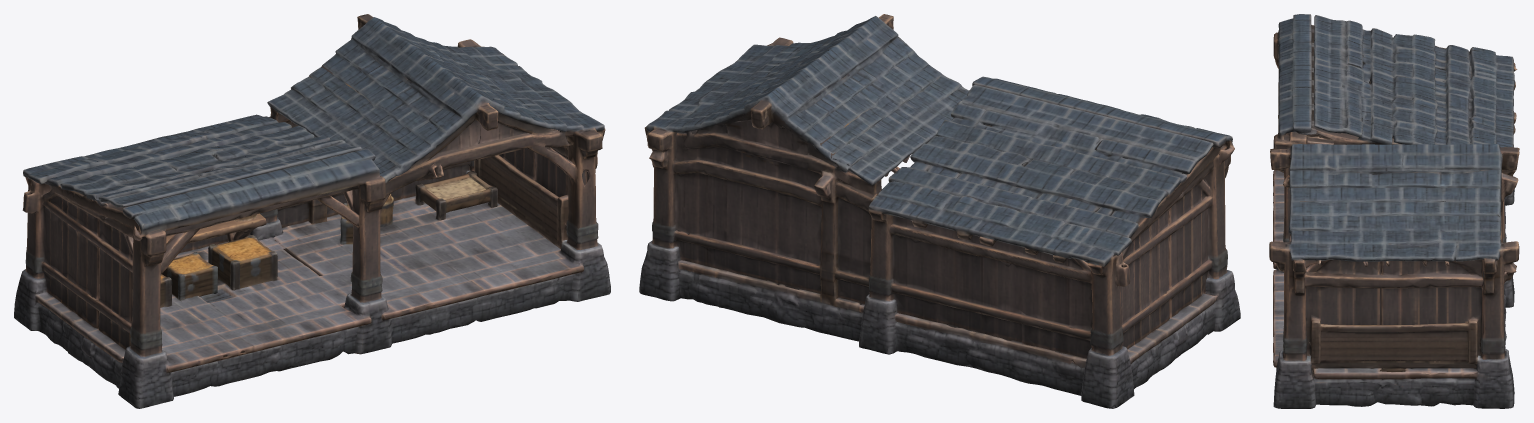
3 views of the same model, side by side, from view 1: azimuth 30°, elevation 25°; view 2: azimuth 150°, elevation 25°; view 3: azimuth 270°, elevation 25° (orthographic). The views are drawn at different scales.
Size of the model in its own units: 0.9954 by 0.4383 by 0.4748.
1 material, 1 textured.
